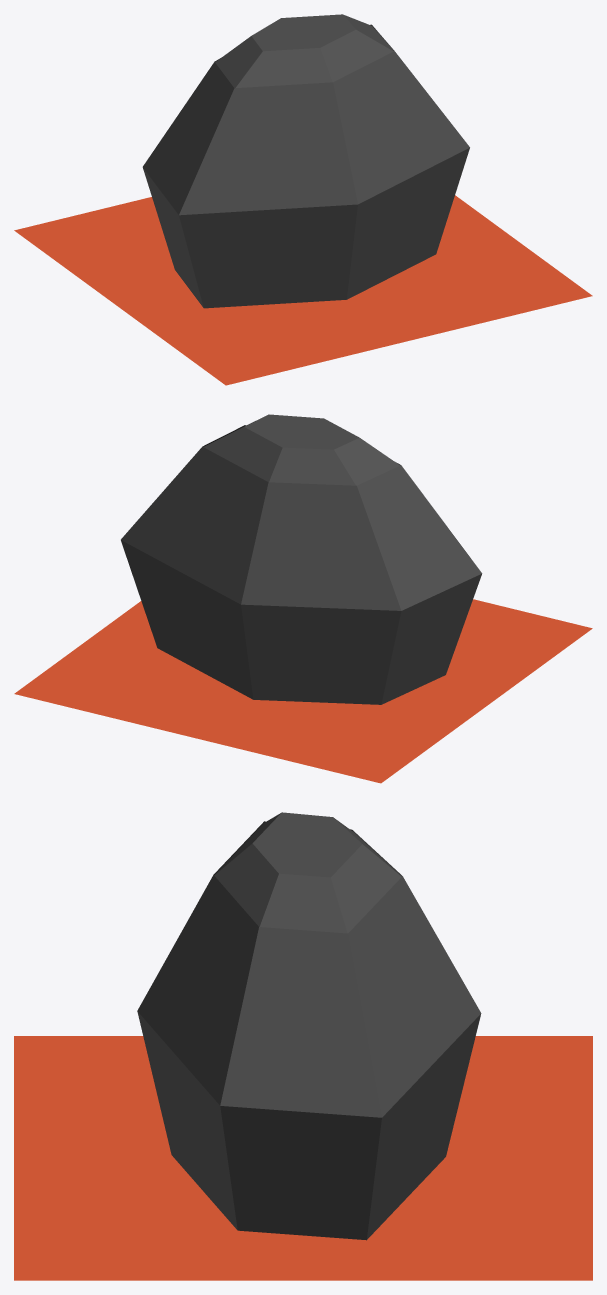
The model's file is akadaly1.glb.
3 views of the same model, one above another, from view 1: azimuth 30°, elevation 25°; view 2: azimuth 150°, elevation 25°; view 3: azimuth 270°, elevation 25° (orthographic). The views are drawn at different scales.
Visible parts, largest first — view 1: Plane, Plane.001; view 2: Plane, Plane.001; view 3: Plane, Plane.001.
Boxes of the visible parts, <box> form: Plane: <box>142,14,469,308</box>; Plane.001: <box>14,195,592,385</box>; Plane: <box>121,414,482,704</box>; Plane.001: <box>14,599,592,783</box>; Plane: <box>137,812,481,1240</box>; Plane.001: <box>14,1036,592,1280</box>.
Size of the model in its own units: 2 by 1.2 by 2.
